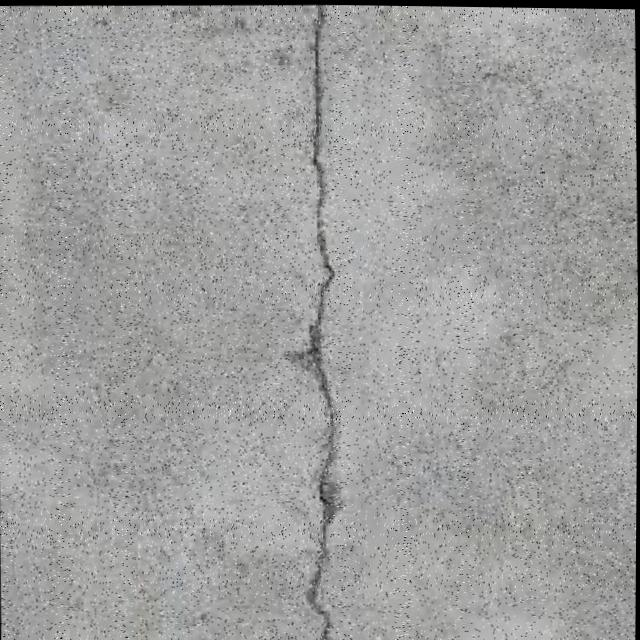Crack: (272, 3, 365, 640)
